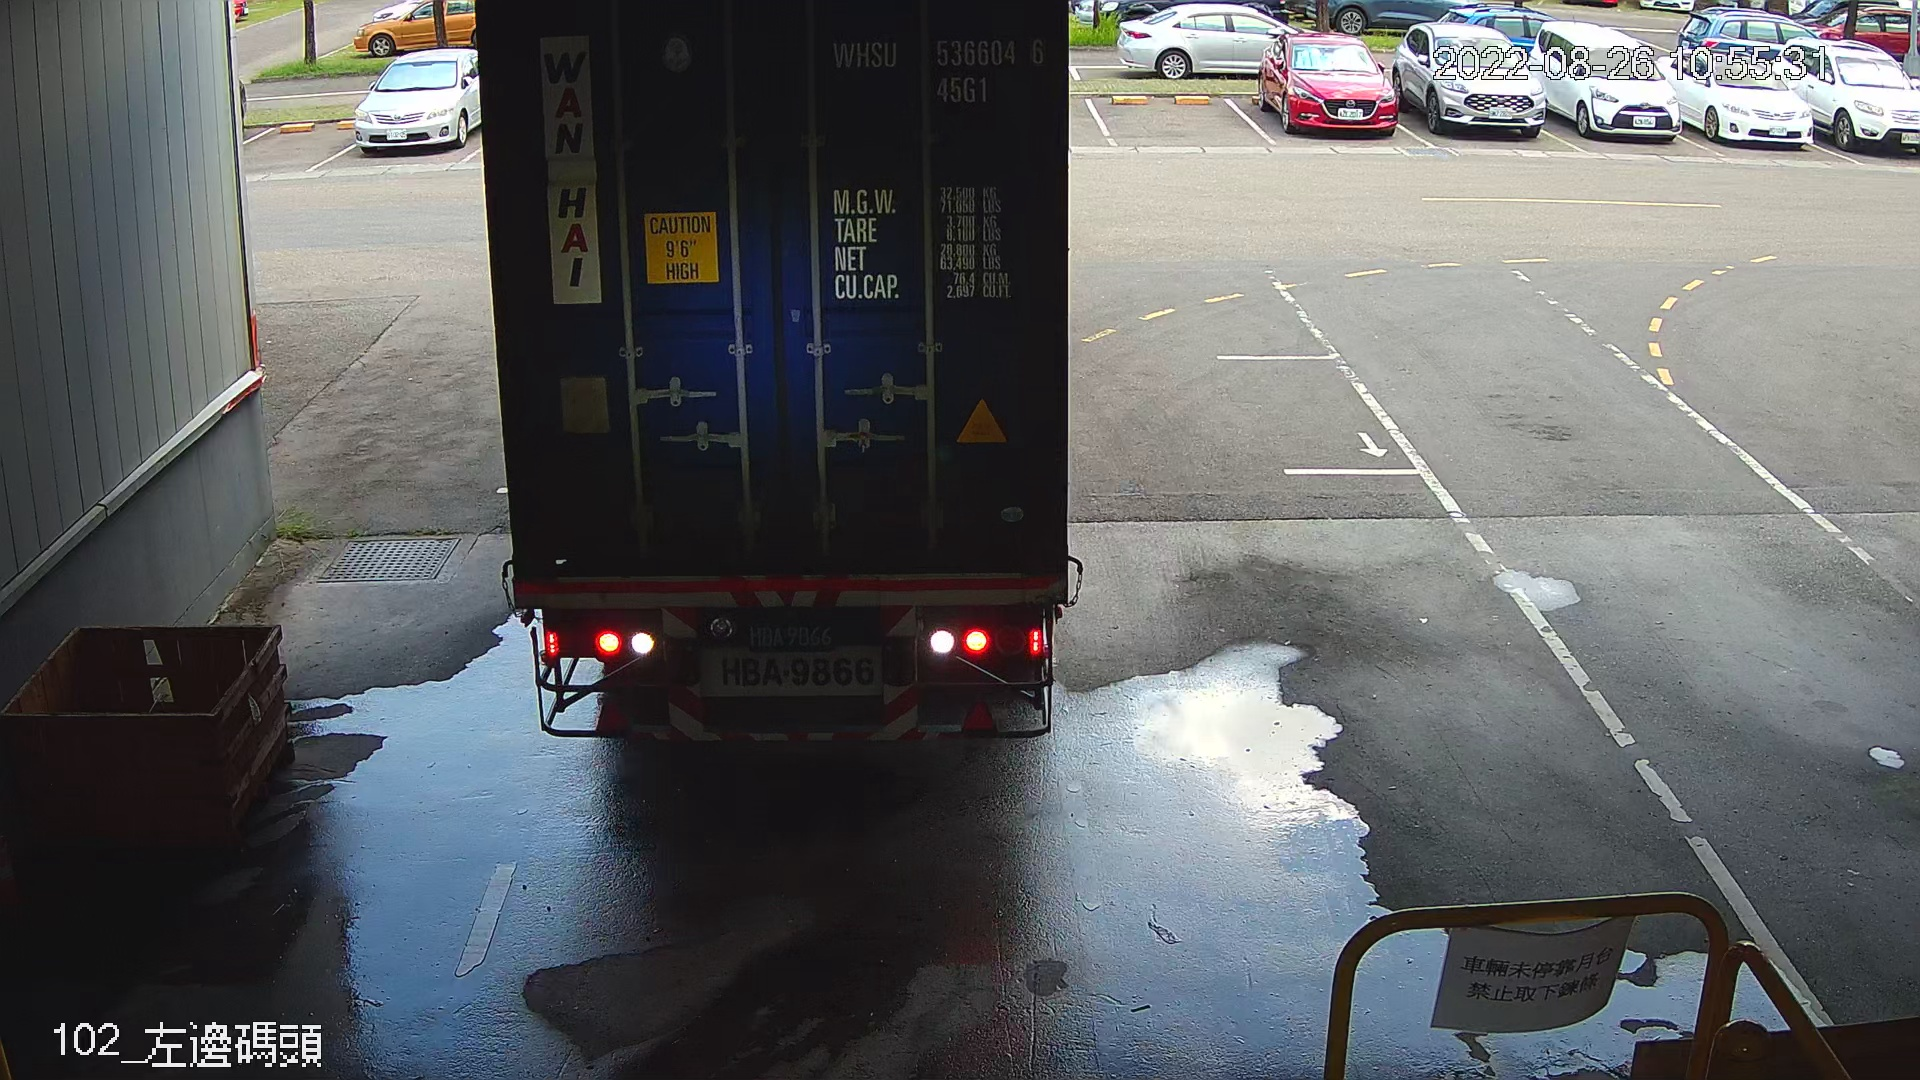container: (828, 26, 1051, 113)
